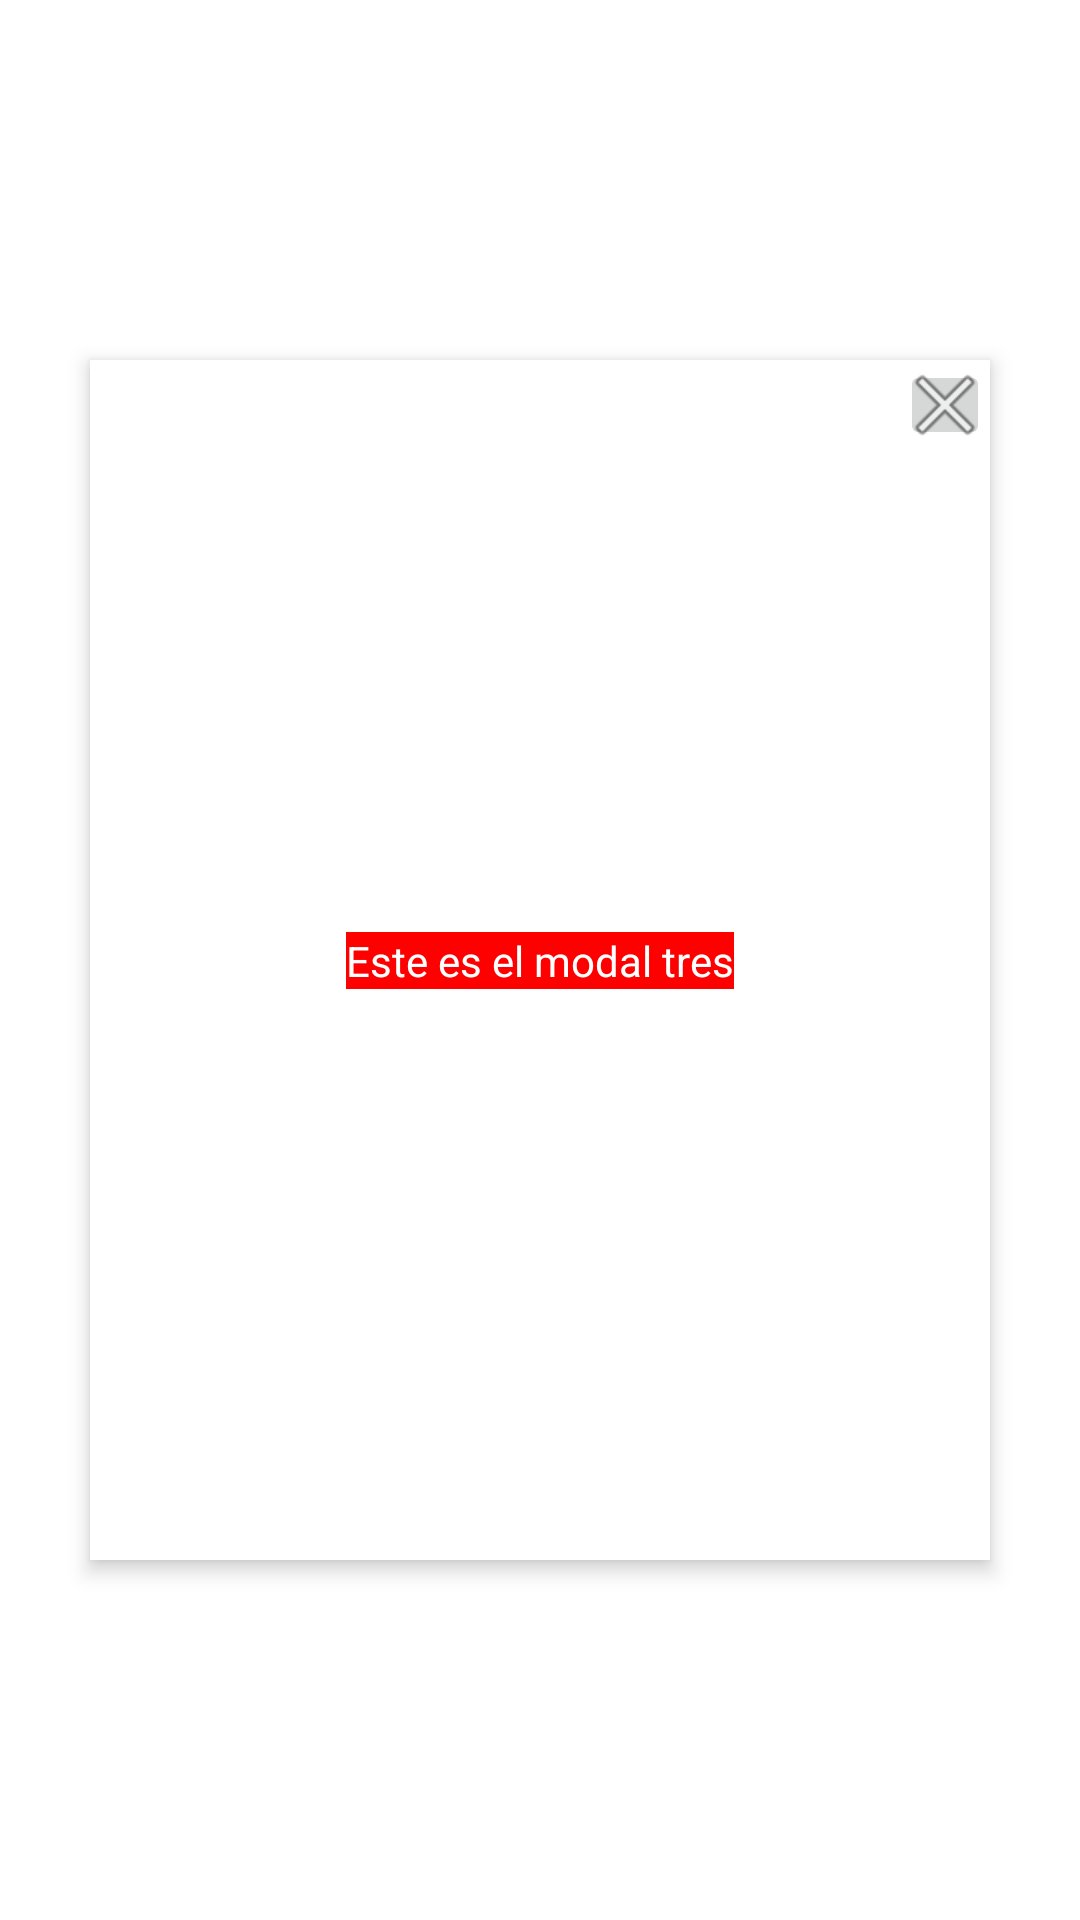

Screen size 1080×1920. Icon name, then its box in pixels as (x1, y1, x2, y2):
close clear cancel: (912, 375, 978, 435)
